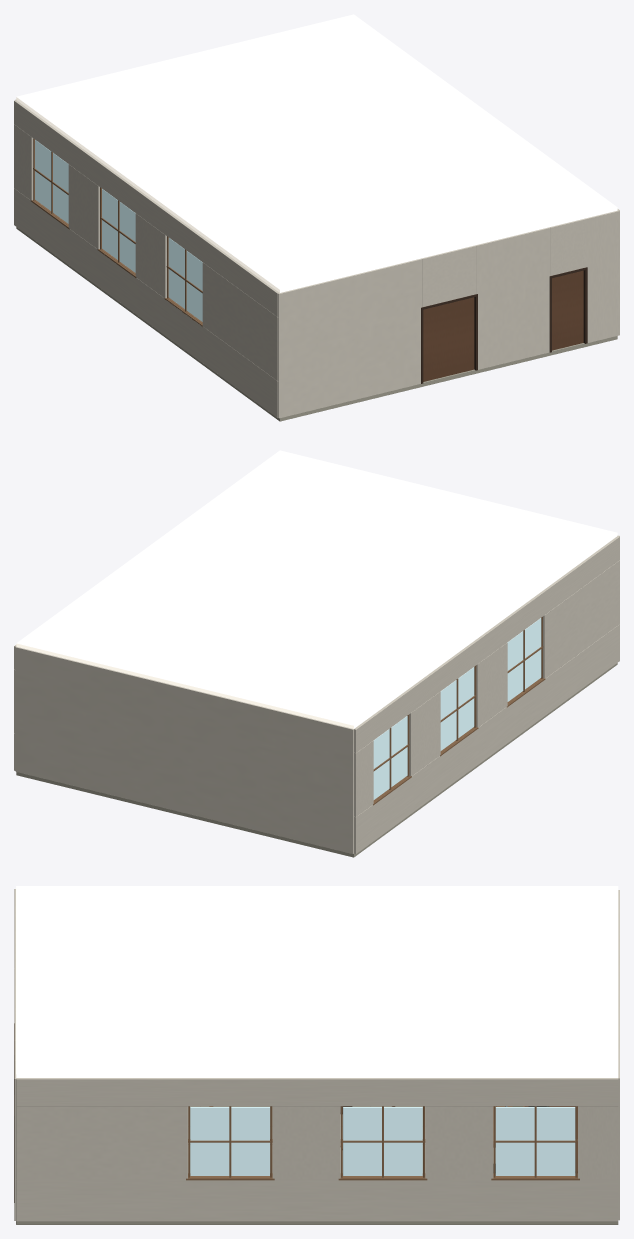
The model's file is salle_decor_v27.glb.
The picture shows the model from 3 angles, top to bottom: view 1: azimuth 30°, elevation 25°; view 2: azimuth 150°, elevation 25°; view 3: azimuth 270°, elevation 25°; orthographic projection. The views are drawn at different scales.
Visible parts, largest first — view 1: Salle__Plafond_105, Salle__Mur_public_089, Salle__Mur_lateral_bas_027, Salle__Mur_public_090, Salle__Mur_lateral_haut_028, Salle__Trumeau_032, Salle__Mur_public_091, Salle__Porte_095, Salle__Linteau_porte_092, Salle__Porte_101, Salle__Sol_000, Salle__Trumeau_030 (+6 smaller); view 2: Salle__Plafond_105, Salle__Mur_formation_026, Salle__Mur_lateral_bas_027, Salle__Mur_lateral_haut_028, Salle__Trumeau_032, Salle__Trumeau_031, Salle__Trumeau_030, Salle__Sol_000, Salle__Vitrage_049, Salle__Vitrage_041, Salle__Vitrage_033, Salle__Trumeau_029; view 3: Salle__Plafond_105, Salle__Mur_lateral_bas_058, Salle__Mur_lateral_haut_059, Salle__Trumeau_063, Salle__Vitrage_064, Salle__Vitrage_080, Salle__Vitrage_072, Salle__Trumeau_061, Salle__Trumeau_062, Salle__Sol_000, Salle__Trumeau_060, Salle__Mur_formation_026.
Boxes of the visible parts, x1,y1,x2,y2 form: Salle__Plafond_105: (16,14,617,292); Salle__Mur_public_089: (276,258,421,418); Salle__Mur_lateral_bas_027: (14,188,278,417); Salle__Mur_public_090: (476,227,550,369); Salle__Mur_lateral_haut_028: (14,100,279,316); Salle__Trumeau_032: (202,262,278,380); Salle__Mur_public_091: (585,209,619,342); Salle__Porte_095: (423,297,474,381); Salle__Linteau_porte_092: (421,245,476,307); Salle__Porte_101: (552,270,583,350); Salle__Sol_000: (16,227,617,421); Salle__Trumeau_030: (68,164,99,249); Salle__Plafond_105: (16,450,617,728); Salle__Mur_formation_026: (15,646,353,853); Salle__Mur_lateral_bas_027: (354,624,619,853); Salle__Mur_lateral_haut_028: (354,536,619,752); Salle__Trumeau_032: (543,560,619,678); Salle__Trumeau_031: (476,642,507,727); Salle__Trumeau_030: (409,691,440,776); Salle__Sol_000: (16,663,617,857); Salle__Vitrage_049: (507,618,541,701); Salle__Vitrage_041: (440,667,474,750); Salle__Vitrage_033: (373,716,407,799); Salle__Trumeau_029: (354,740,373,816); Salle__Plafond_105: (16,886,618,1077); Salle__Mur_lateral_bas_058: (16,1179,618,1221); Salle__Mur_lateral_haut_059: (16,1078,618,1106); Salle__Trumeau_063: (16,1106,187,1179); Salle__Vitrage_064: (495,1107,575,1175); Salle__Vitrage_080: (190,1107,269,1175); Salle__Vitrage_072: (343,1107,422,1175); Salle__Trumeau_061: (425,1106,493,1179); Salle__Trumeau_062: (272,1106,340,1179); Salle__Sol_000: (16,1106,618,1224); Salle__Trumeau_060: (578,1106,618,1179); Salle__Mur_formation_026: (618,890,619,1220).
Bounding box in the file's own units: 10.64 × 3.92 × 14.29.
18 materials, 7 textured.
